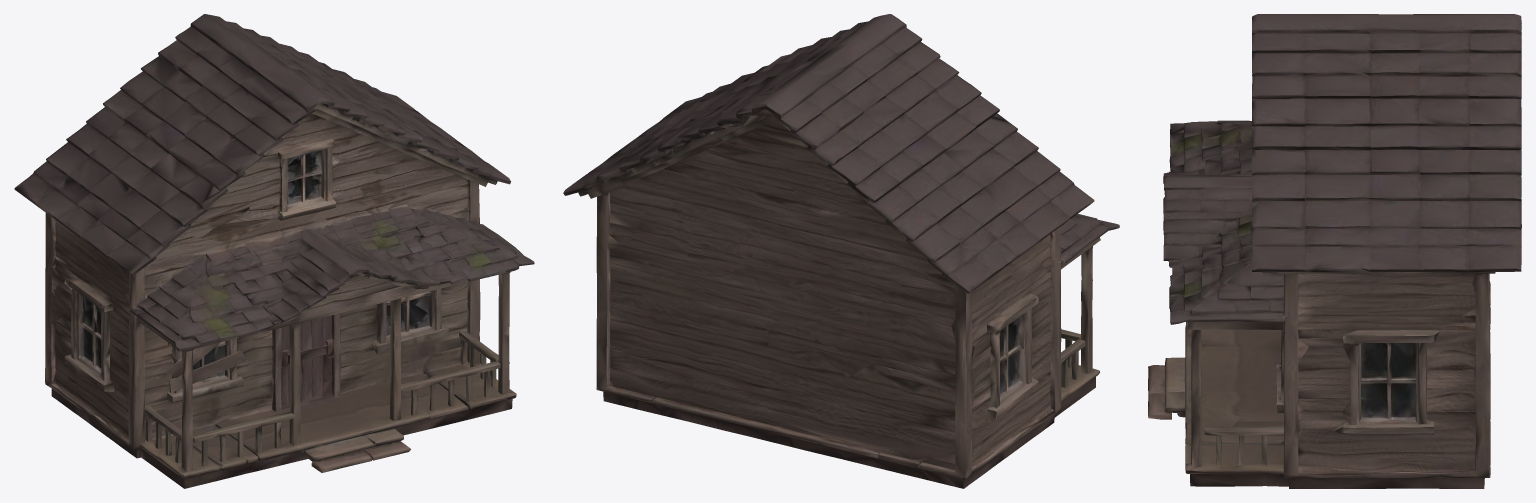
Rendered from house_small_d_idle.glb.
3 views of the same model, side by side, from view 1: azimuth 30°, elevation 25°; view 2: azimuth 150°, elevation 25°; view 3: azimuth 270°, elevation 25° (orthographic). The views are drawn at different scales.
Visible parts, largest first — view 1: tripo_node_18a473da-56b7-4193-a925-6a98e1149247; view 2: tripo_node_18a473da-56b7-4193-a925-6a98e1149247; view 3: tripo_node_18a473da-56b7-4193-a925-6a98e1149247.
Part boxes in pixels (<box>): tripo_node_18a473da-56b7-4193-a925-6a98e1149247: <box>14,14,534,488</box>; tripo_node_18a473da-56b7-4193-a925-6a98e1149247: <box>563,14,1119,488</box>; tripo_node_18a473da-56b7-4193-a925-6a98e1149247: <box>1148,14,1521,488</box>.
Size of the model in its own units: 8 by 6.65 by 5.92.
1 material, 1 textured.
